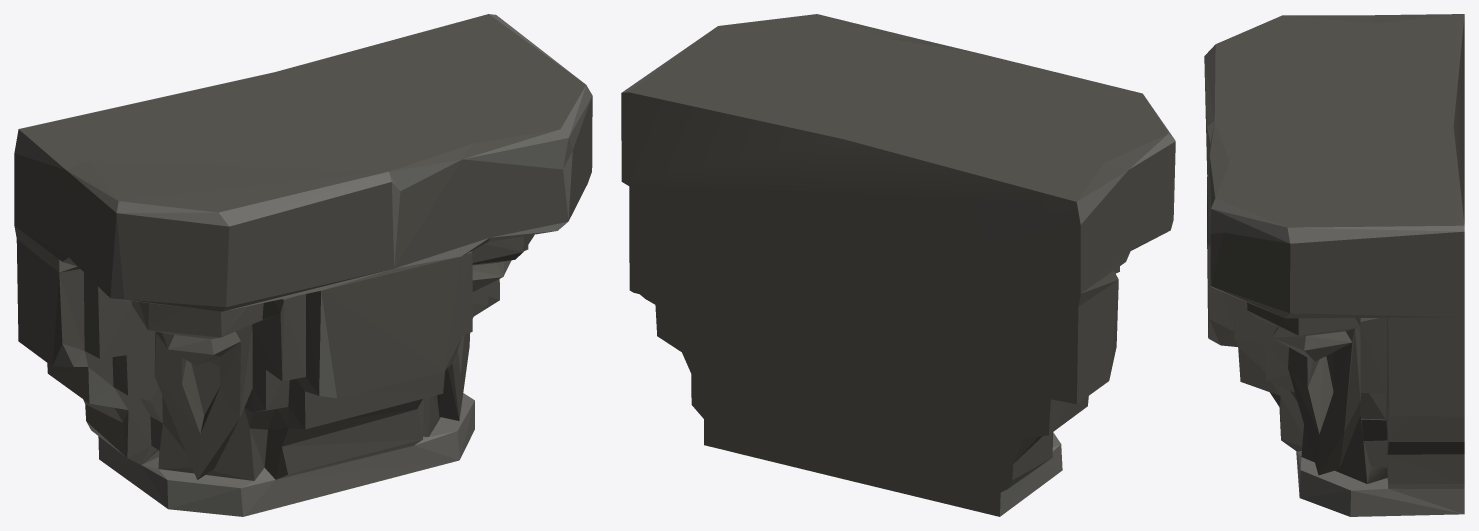
The model's file is MDungeon_PillarSmall_Top_Half.FBX.
3 renders of one model, left to right at view 1: azimuth 30°, elevation 25°; view 2: azimuth 150°, elevation 25°; view 3: azimuth 270°, elevation 25°, orthographic. The views are drawn at different scales.
Parts seen in each view (by area): view 1: MDungeon_PillarSmall_Top_Half_LOD0; view 2: MDungeon_PillarSmall_Top_Half_LOD0; view 3: MDungeon_PillarSmall_Top_Half_LOD0.
Part boxes in pixels (x1,y1,x2,y2): MDungeon_PillarSmall_Top_Half_LOD0: (14,14,592,516); MDungeon_PillarSmall_Top_Half_LOD0: (621,14,1175,516); MDungeon_PillarSmall_Top_Half_LOD0: (1204,14,1464,516).
Size of what is drawn, in the model's own units: 3.03 by 2.11 by 1.53.
